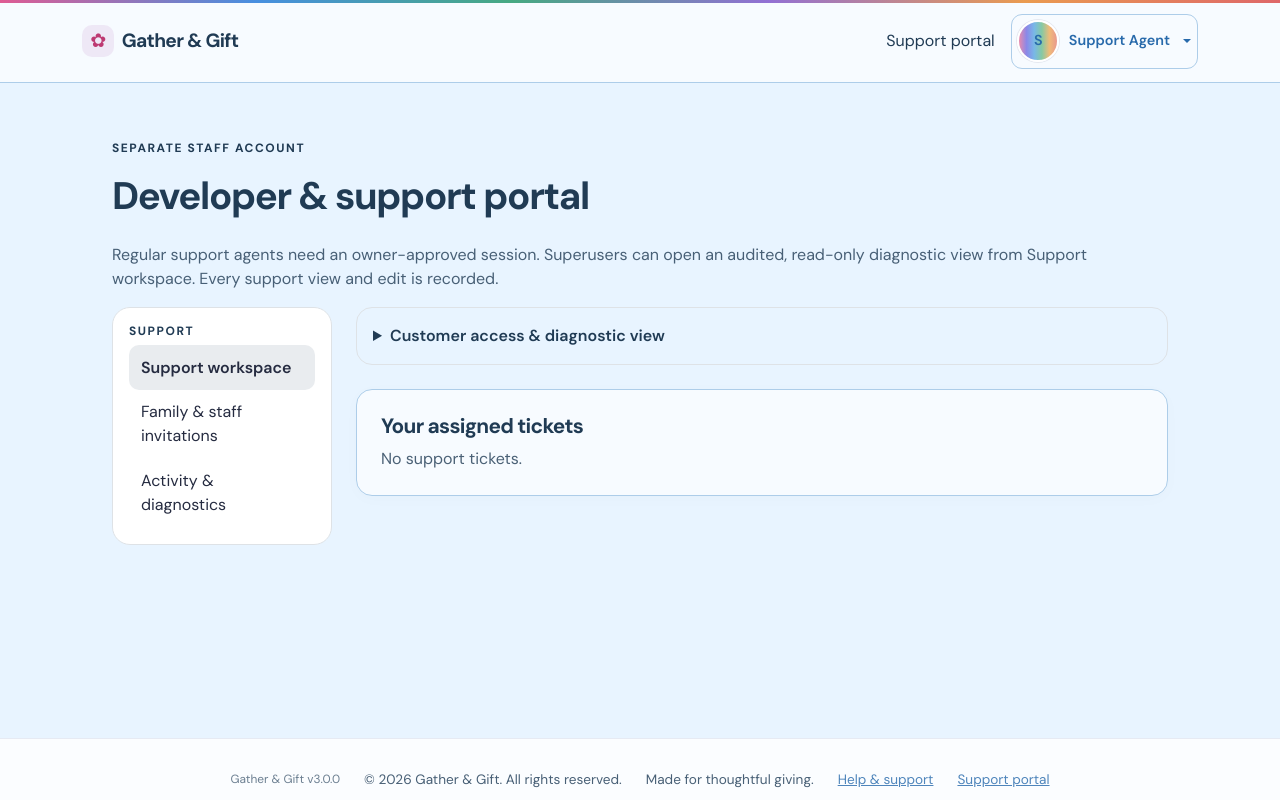
separate support sign-in › lets support prepare a family and send its owner-claim invitation
This screenshot has width=1280, height=800.
Click the button "Family & staff invitations" at (222, 424), box top-left (129, 390), bottom-right (315, 459)
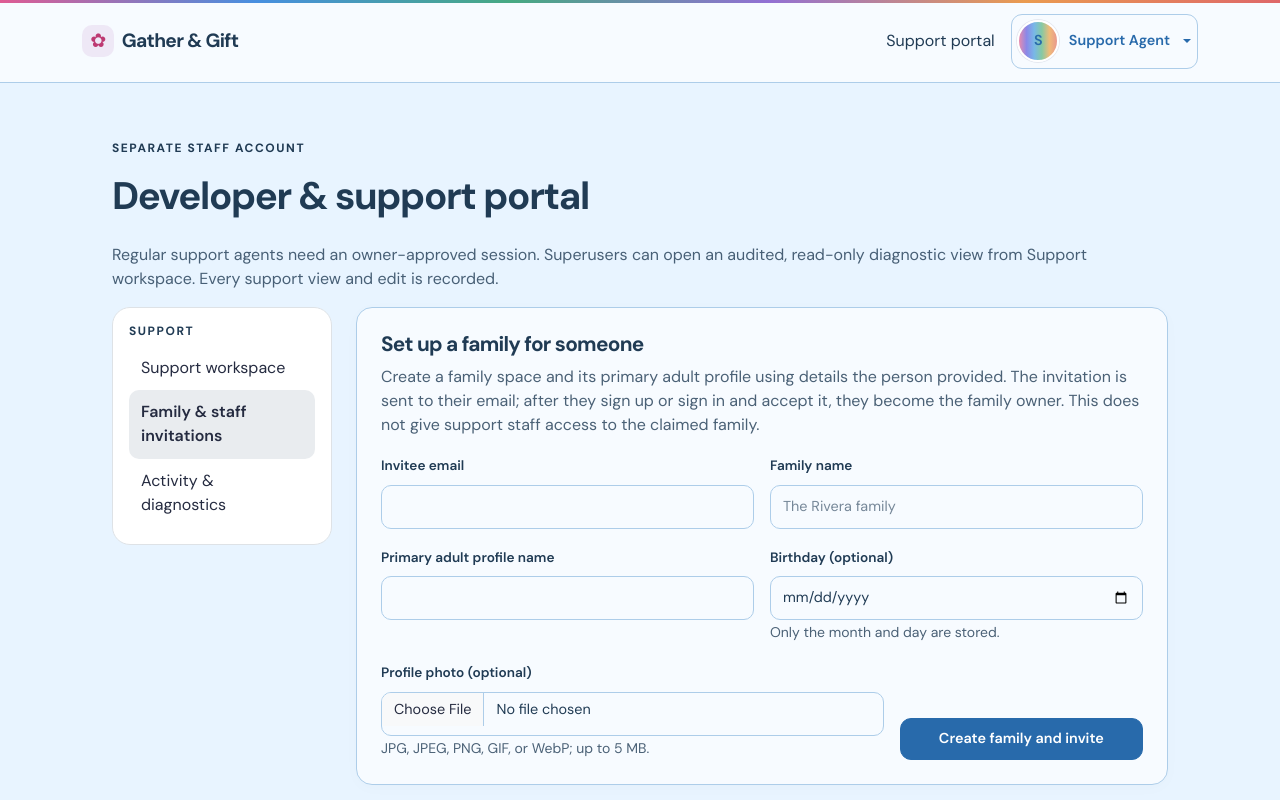
Type "alex@example.com" into the field labelled "Invitee email" at (568, 507), box top-left (381, 485), bottom-right (754, 529)
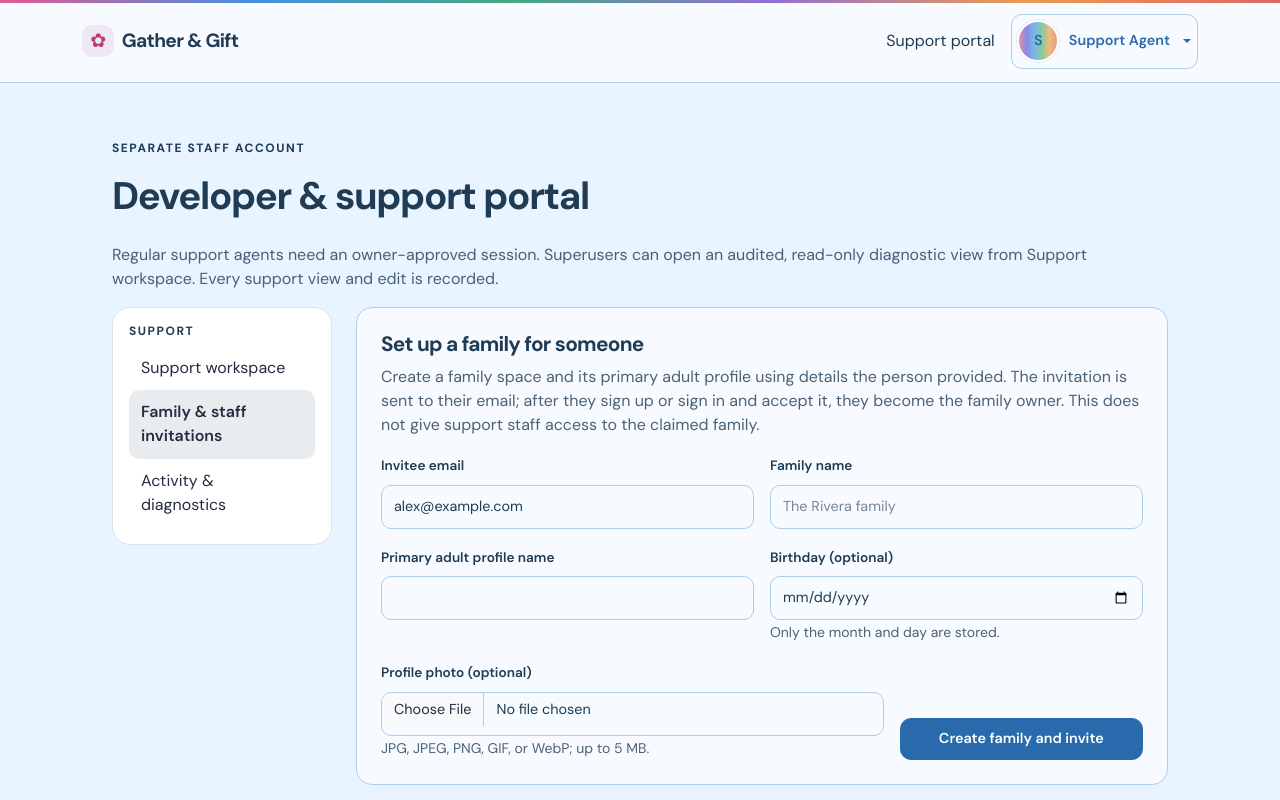
Type "The Rivera Family" into the field labelled "Family name" at (956, 507), box top-left (770, 485), bottom-right (1143, 529)
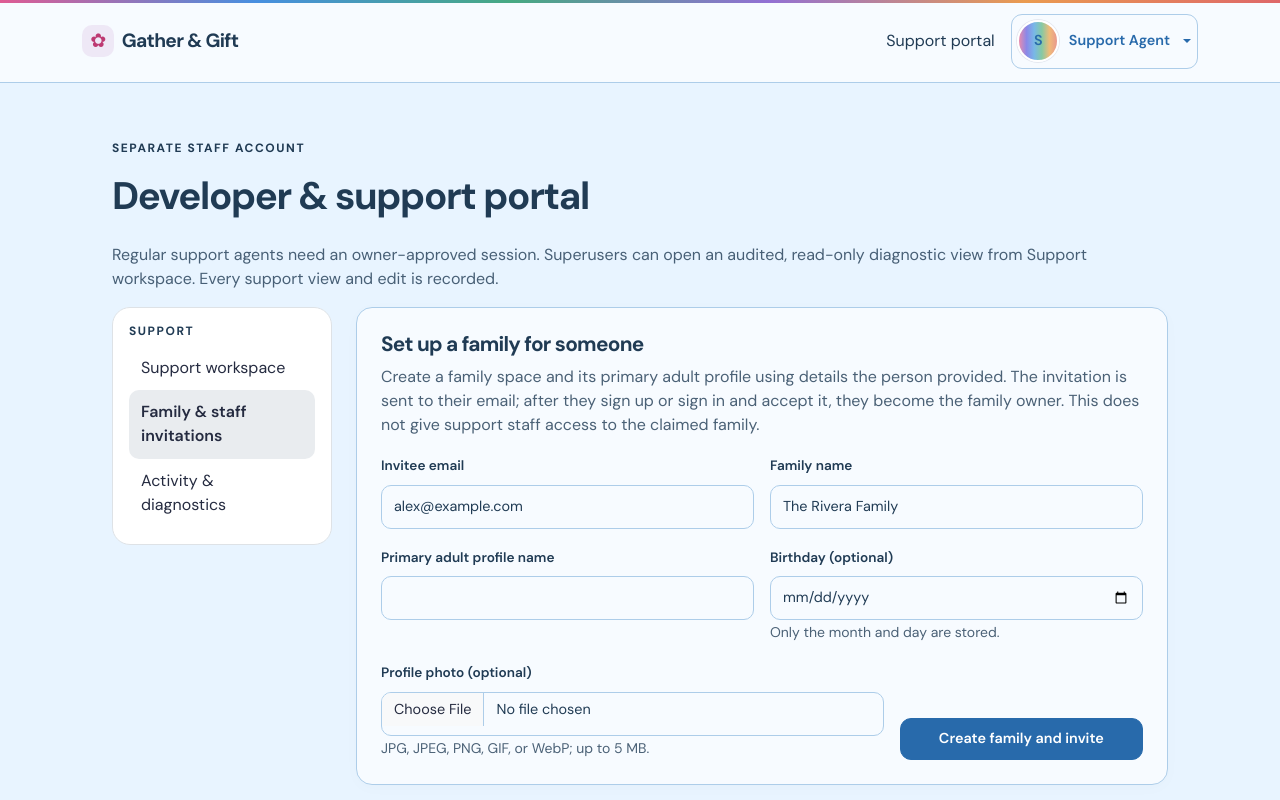
Type "Alex Rivera" into the field labelled "Primary adult profile name" at (568, 598), box top-left (381, 576), bottom-right (754, 620)
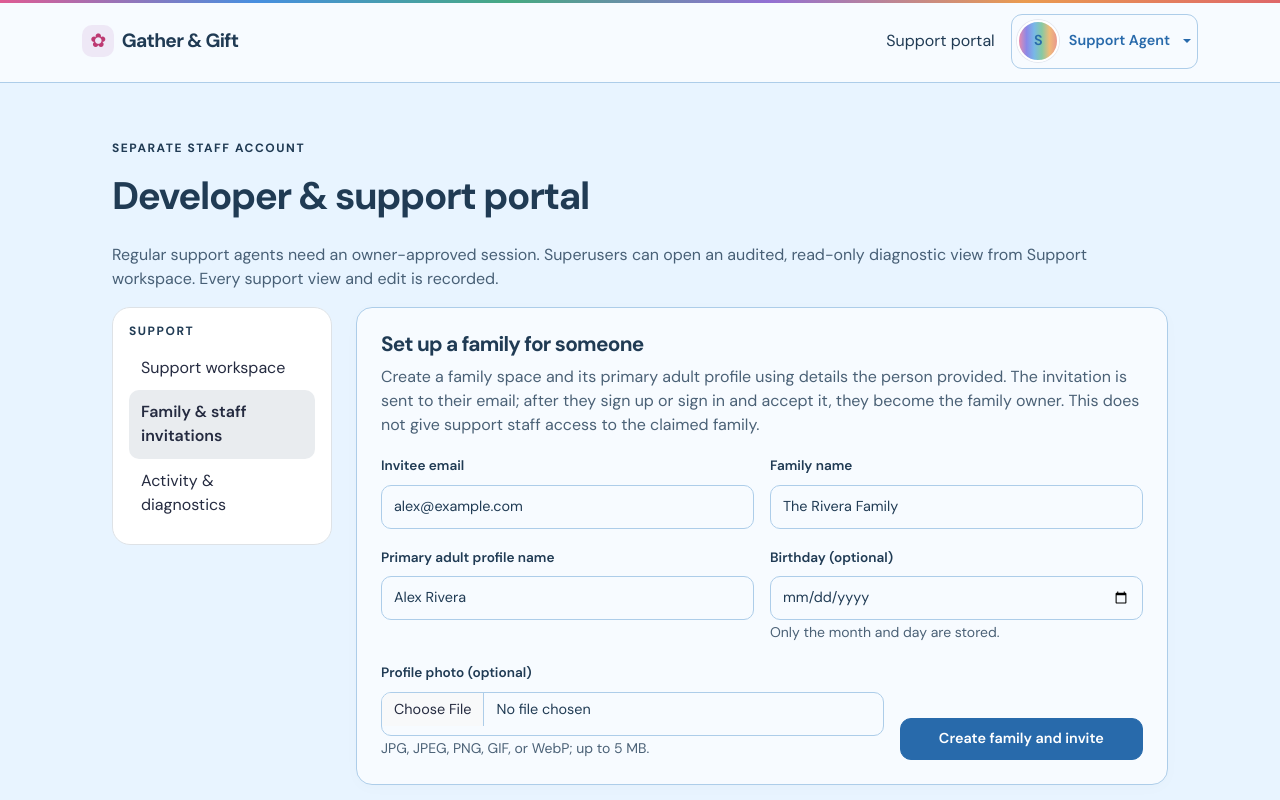
Type "1990-07-23" into the date field labelled "Birthday (optional)" at (956, 598), box top-left (770, 576), bottom-right (1143, 620)
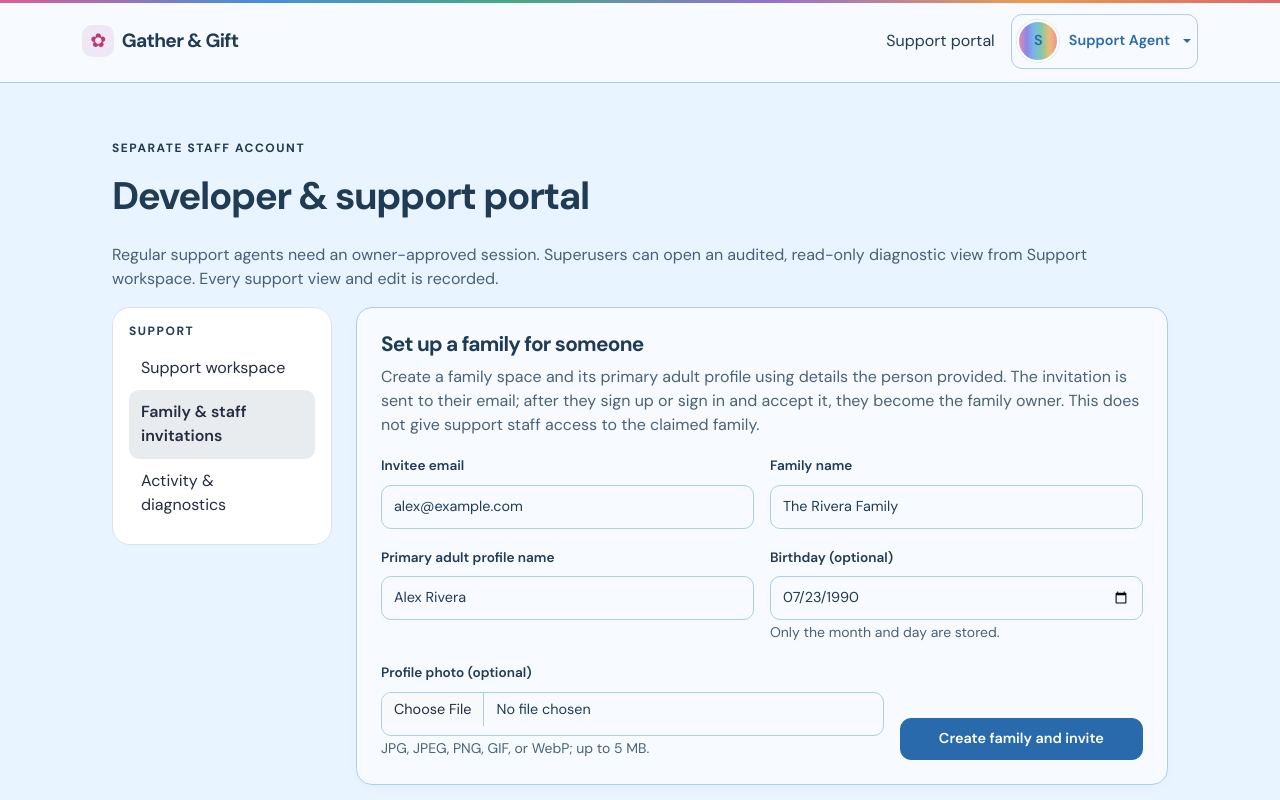
Click the button "Create family and invite" at (1021, 739), box top-left (900, 718), bottom-right (1143, 760)
(page scrolled)
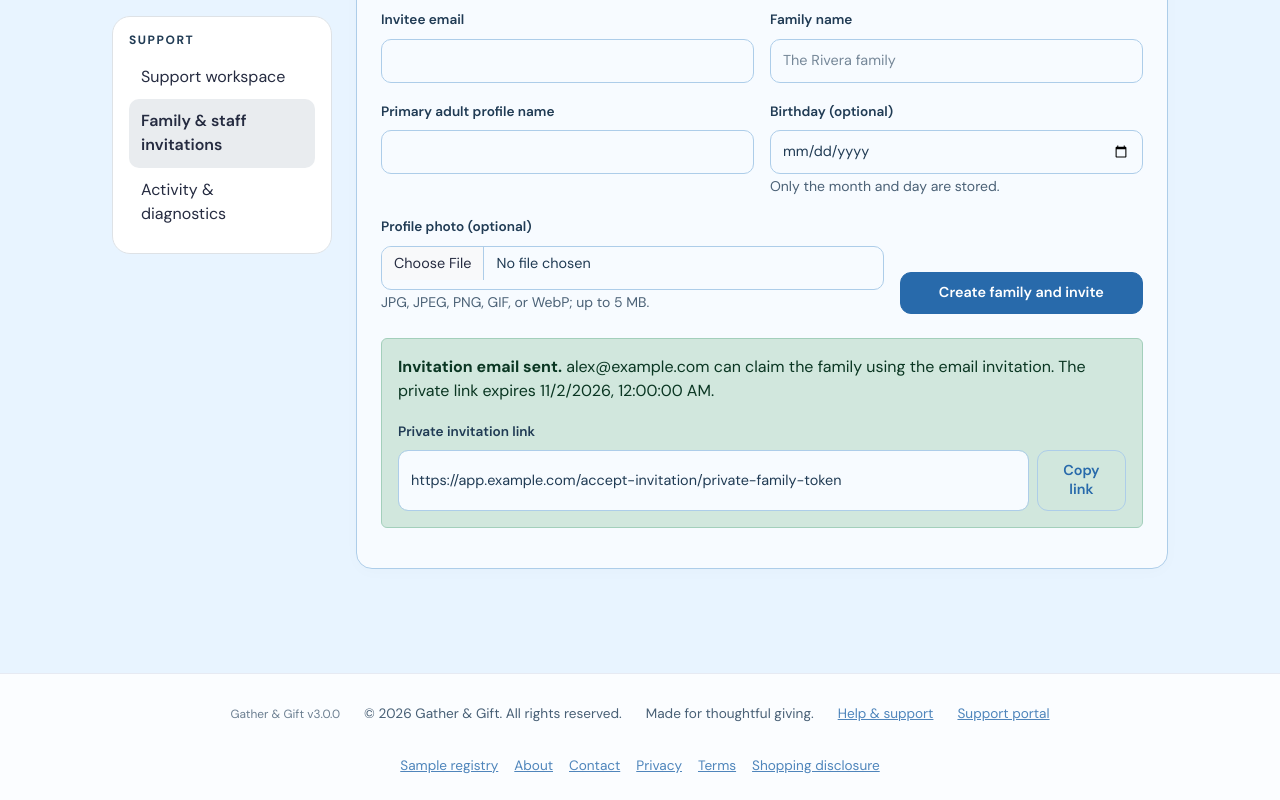
Expected: the field named "Private family invitation link" holds "https://app.example.com/accept-invitation/private-family-token", top-left (398, 450), bottom-right (1029, 511)
